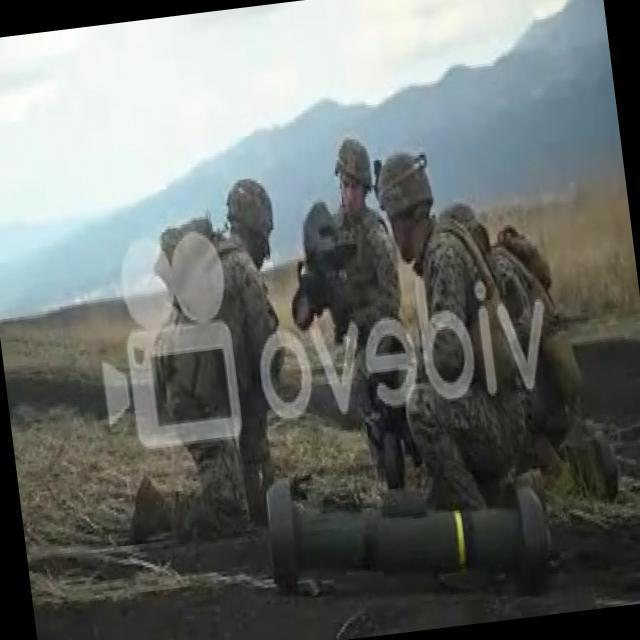rocket: (264, 450, 558, 619)
